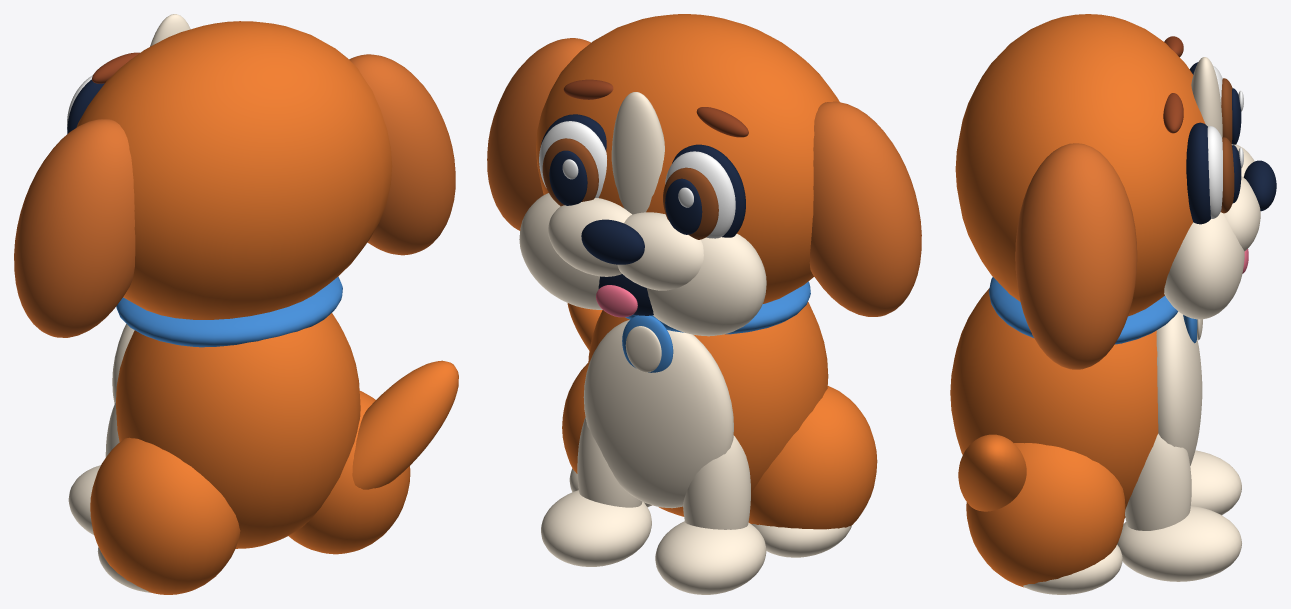
The model's file is player.glb.
3 renders of one model, left to right at view 1: azimuth 30°, elevation 25°; view 2: azimuth 150°, elevation 25°; view 3: azimuth 270°, elevation 25°, orthographic.
Visible parts, largest first — view 1: head, body, floppy ear (×2), haunch (×2), tail, collar, paw, eye socket, white blaze, chest, brow; view 2: head, floppy ear (×2), chest, haunch (×2), body, paw (×2), cheek (×2), muzzle (×2), front leg (×2), white blaze, eye white (×2), iris (×2) (+11 smaller); view 3: head, body, floppy ear, haunch, paw (×2), cheek, chest, front leg, tail, collar, eye socket, back paw (+7 smaller).
Boxes of the visible parts, x1,y1,x2,y2 form: head: (76,21,392,319); body: (116,313,360,548); floppy ear (×2): (14,54,455,337); haunch (×2): (90,391,410,594); tail: (352,360,458,489); collar: (116,276,342,347); paw: (68,465,100,534); eye socket: (67,79,104,133); white blaze: (150,14,190,46); chest: (112,324,134,403); brow: (92,52,139,83); head: (536,14,839,303); floppy ear (×2): (487,38,921,316); chest: (583,319,733,508); haunch (×2): (562,363,877,529); body: (588,302,828,516); paw (×2): (541,490,766,594); cheek (×2): (519,193,766,336); muzzle (×2): (548,198,703,290); front leg (×2): (577,417,750,529); white blaze: (611,92,664,214); eye white (×2): (539,121,735,238); iris (×2): (542,138,718,239); head: (955,14,1205,316); body: (950,288,1158,517); floppy ear: (1015,143,1137,369); haunch: (966,443,1125,587); paw (×2): (1117,450,1241,581); cheek: (1164,212,1244,319); chest: (1156,311,1202,465); front leg: (1125,433,1191,530); tail: (958,434,1026,511); collar: (989,277,1178,344); eye socket: (1186,122,1210,224); back paw: (1023,544,1122,594).
Size of the model in its own units: 1.72 by 2 by 1.15.
